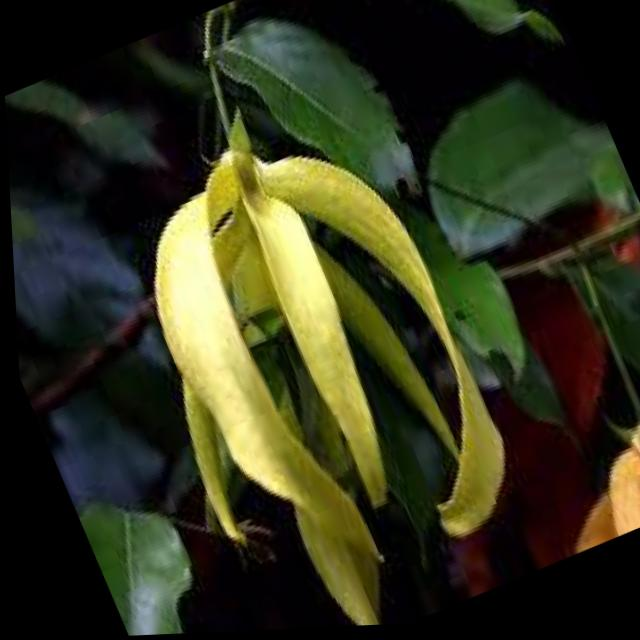Flower: (86, 64, 546, 637)
